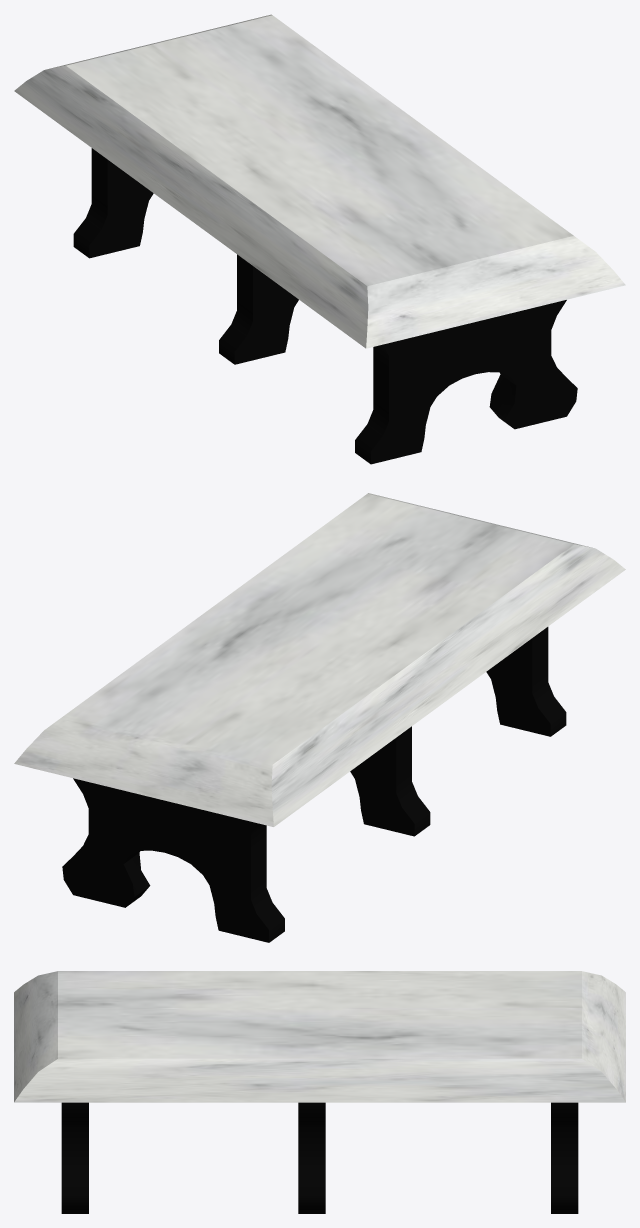
The model's file is Bench.fbx.
The picture shows the model from 3 angles, top to bottom: view 1: azimuth 30°, elevation 25°; view 2: azimuth 150°, elevation 25°; view 3: azimuth 270°, elevation 25°; orthographic projection. The views are drawn at different scales.
Visible parts, largest first — view 1: pCube1, pCube7, pCube4, pCube6; view 2: pCube1, pCube4, pCube7, pCube6; view 3: pCube1, pCube6, pCube4, pCube7.
Boxes of the visible parts, x1,y1,x2,y2 form: pCube1: [14, 14, 625, 348]; pCube7: [355, 300, 577, 464]; pCube4: [73, 148, 153, 258]; pCube6: [219, 254, 298, 364]; pCube1: [14, 493, 625, 826]; pCube4: [62, 778, 284, 942]; pCube7: [486, 627, 566, 736]; pCube6: [350, 726, 430, 836]; pCube1: [14, 971, 625, 1102]; pCube6: [298, 1102, 325, 1213]; pCube4: [551, 1102, 578, 1213]; pCube7: [61, 1102, 88, 1213].
Size of the model in its own units: 13.47 by 8.96 by 31.59.
4 materials, 2 textured.
